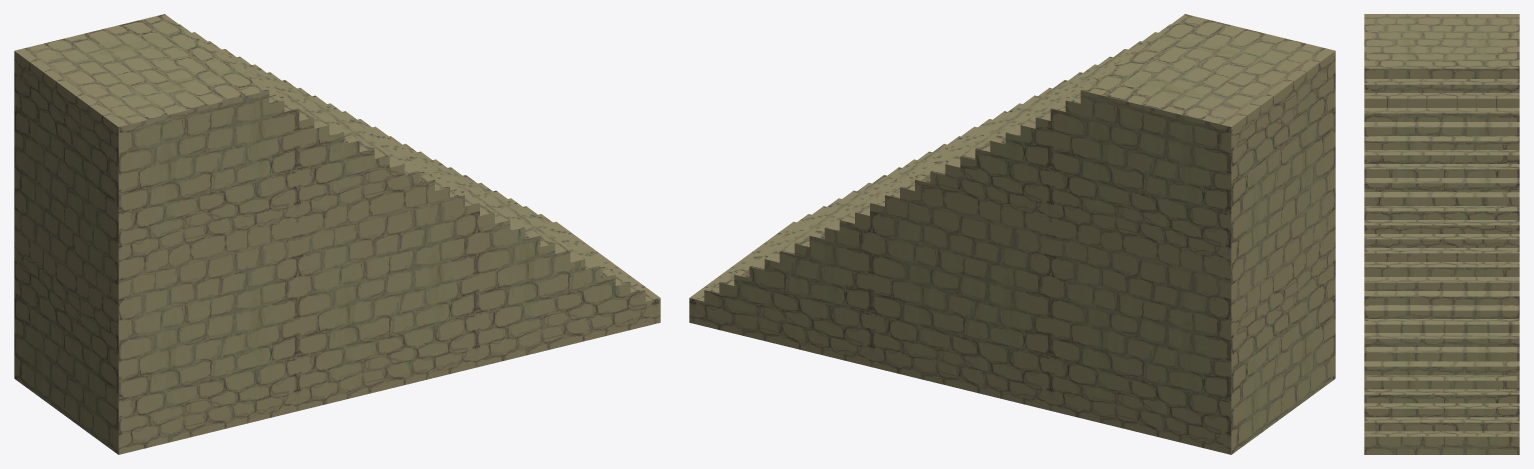
File: Stairs.fbx
3 renders of one model, left to right at view 1: azimuth 30°, elevation 25°; view 2: azimuth 150°, elevation 25°; view 3: azimuth 270°, elevation 25°, orthographic. The views are drawn at different scales.
Visible parts, largest first — view 1: Stairs; view 2: Stairs; view 3: Stairs.
Part boxes in pixels (x1=…): Stairs: x1=14, y1=14, x2=660, y2=454; Stairs: x1=689, y1=14, x2=1335, y2=454; Stairs: x1=1364, y1=14, x2=1519, y2=454.
Size of the model in its own units: 900 by 520 by 300.
